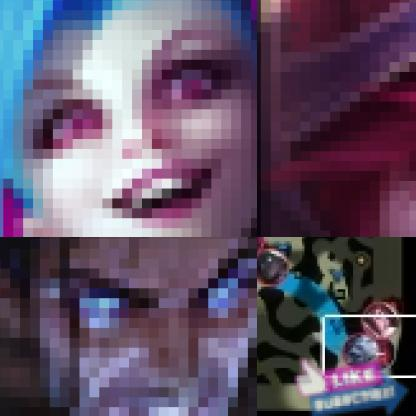Fiora: (360, 302, 402, 341)
Jinx: (0, 0, 256, 236)
Senna: (257, 246, 292, 288)
Sylas: (0, 237, 256, 415)
Volibear: (340, 332, 382, 372)
Xayah: (257, 0, 415, 236)
